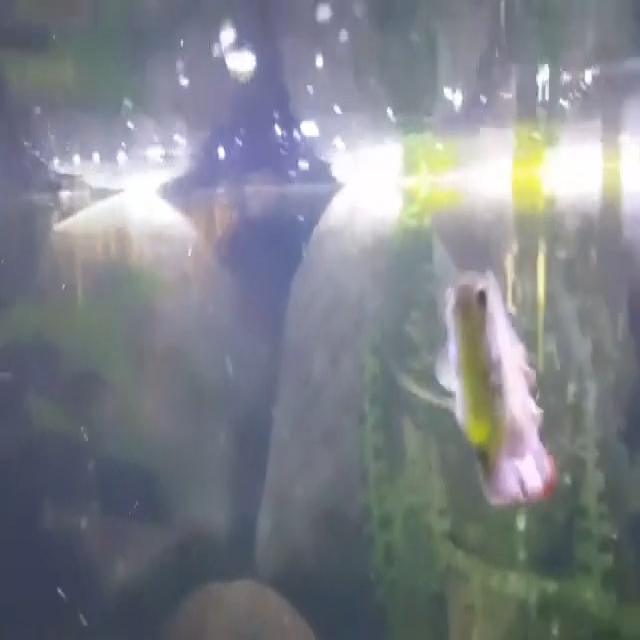fish: (427, 261, 571, 535)
